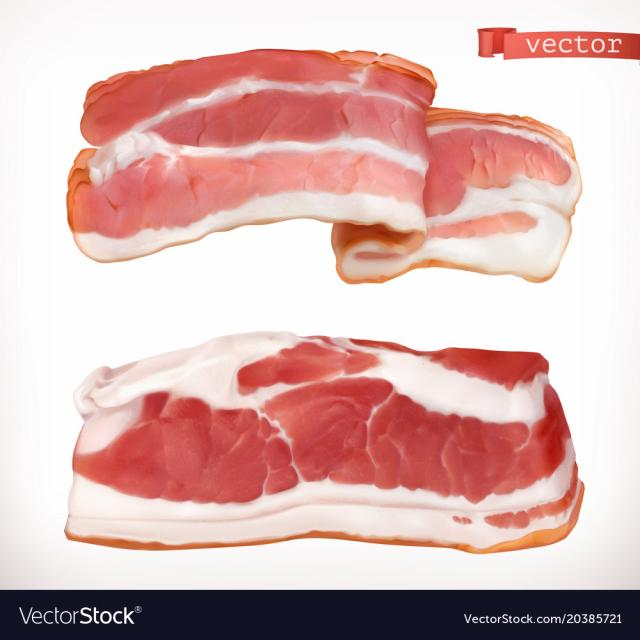Bacon Slice: (62, 40, 577, 292), (63, 334, 576, 559)
